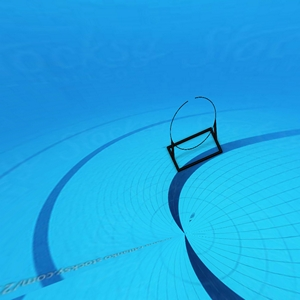circle: (164, 94, 227, 174)
